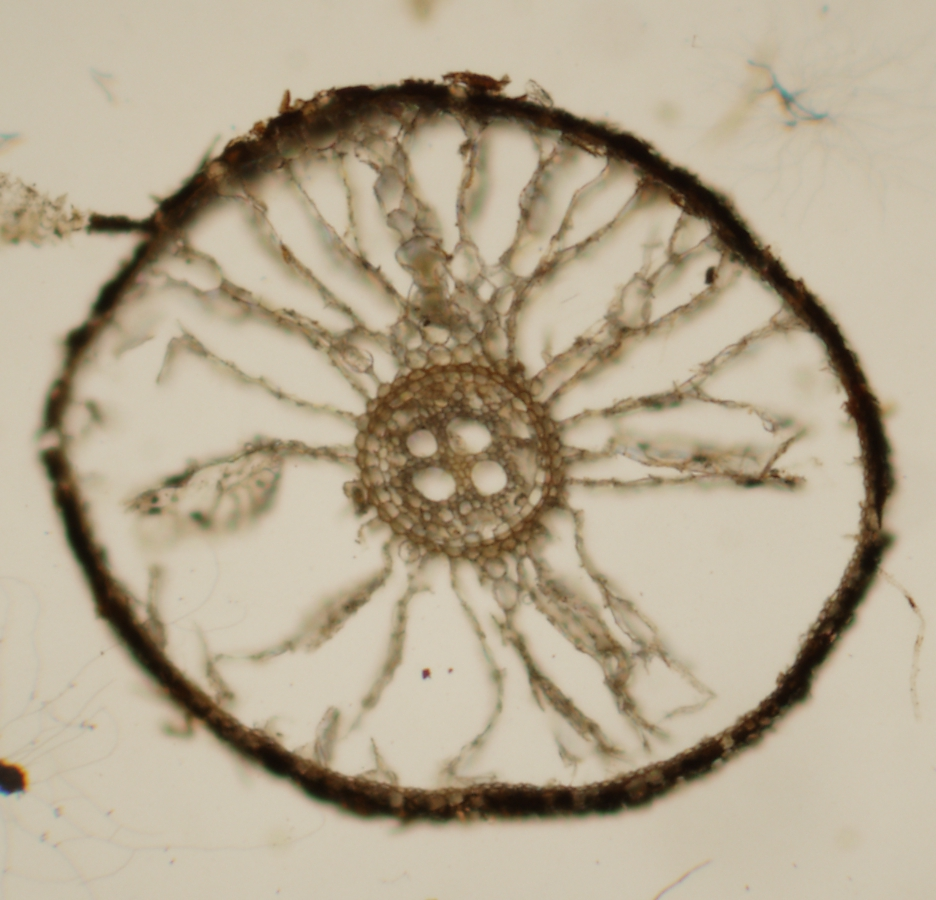lm: (447, 417, 491, 455), (412, 466, 457, 501), (470, 460, 507, 496), (406, 428, 438, 458)
